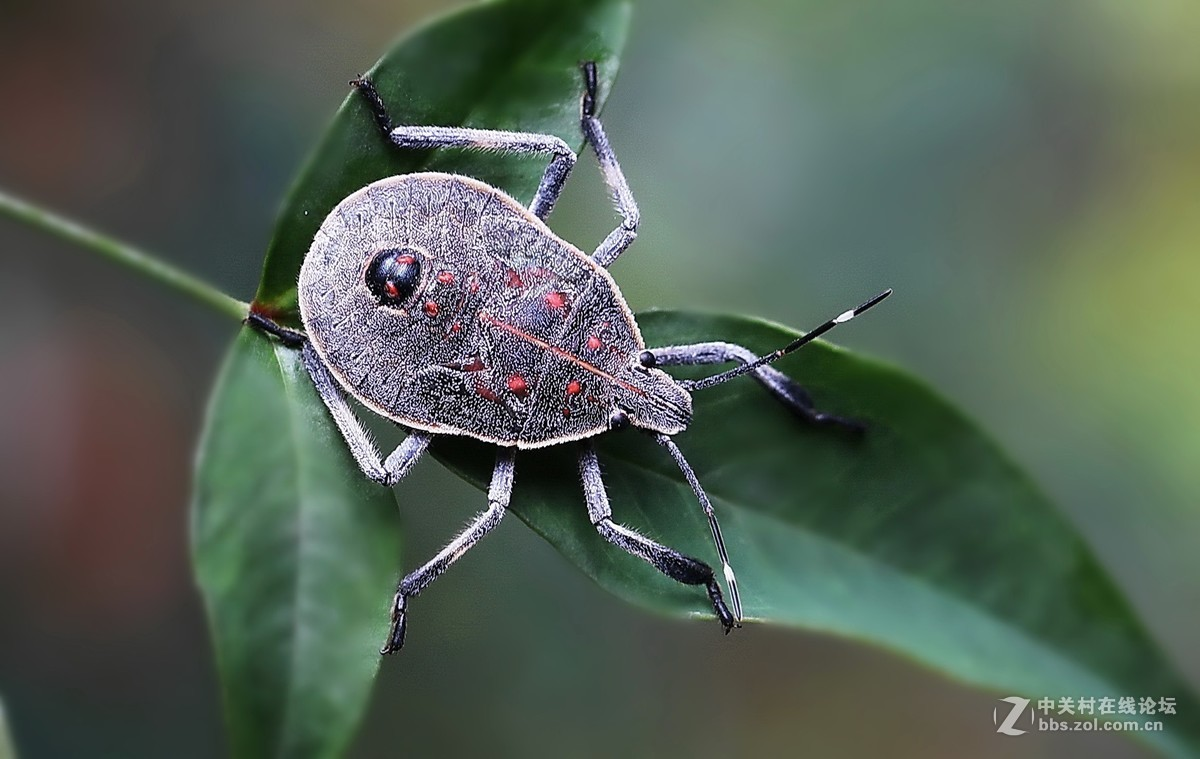chunchong: (293, 157, 856, 584)
